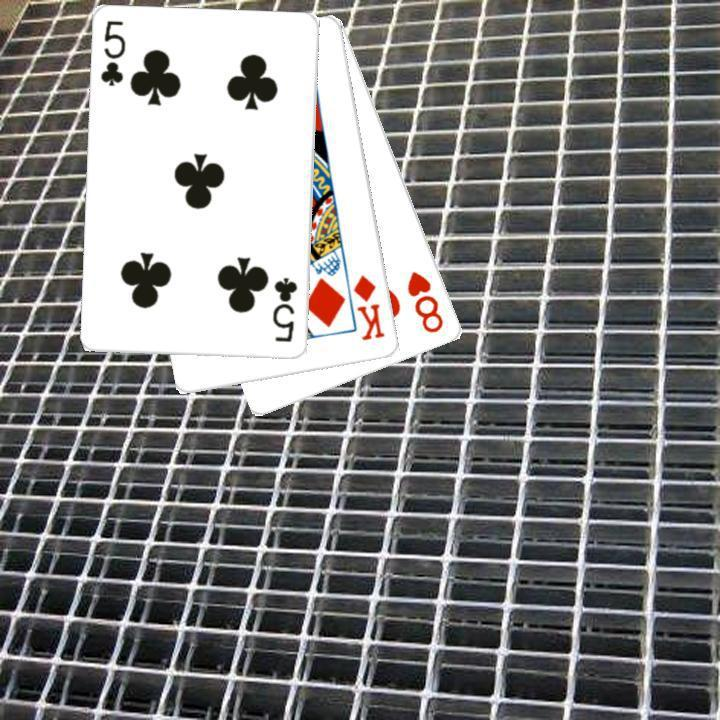5: (96, 17, 128, 89), (269, 274, 299, 345)
8: (403, 266, 446, 336)
K: (349, 270, 387, 343)
